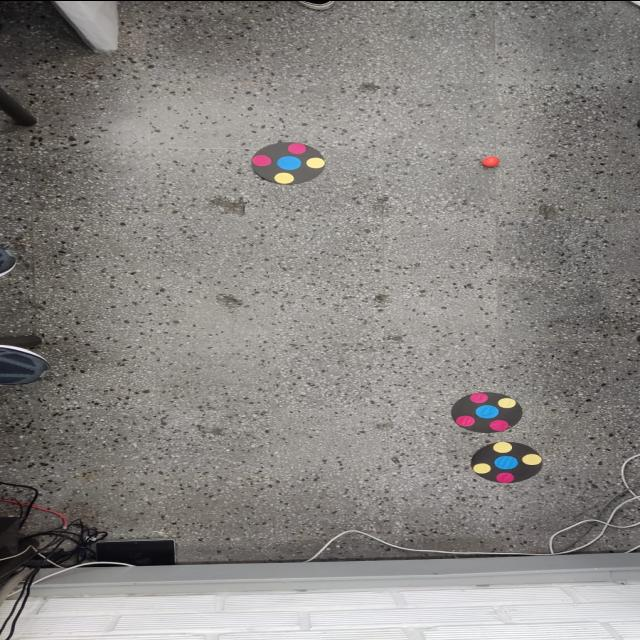0: (450, 390, 524, 432)
1: (250, 140, 326, 183)
2: (469, 440, 543, 482)
Ball: (480, 155, 500, 167)
